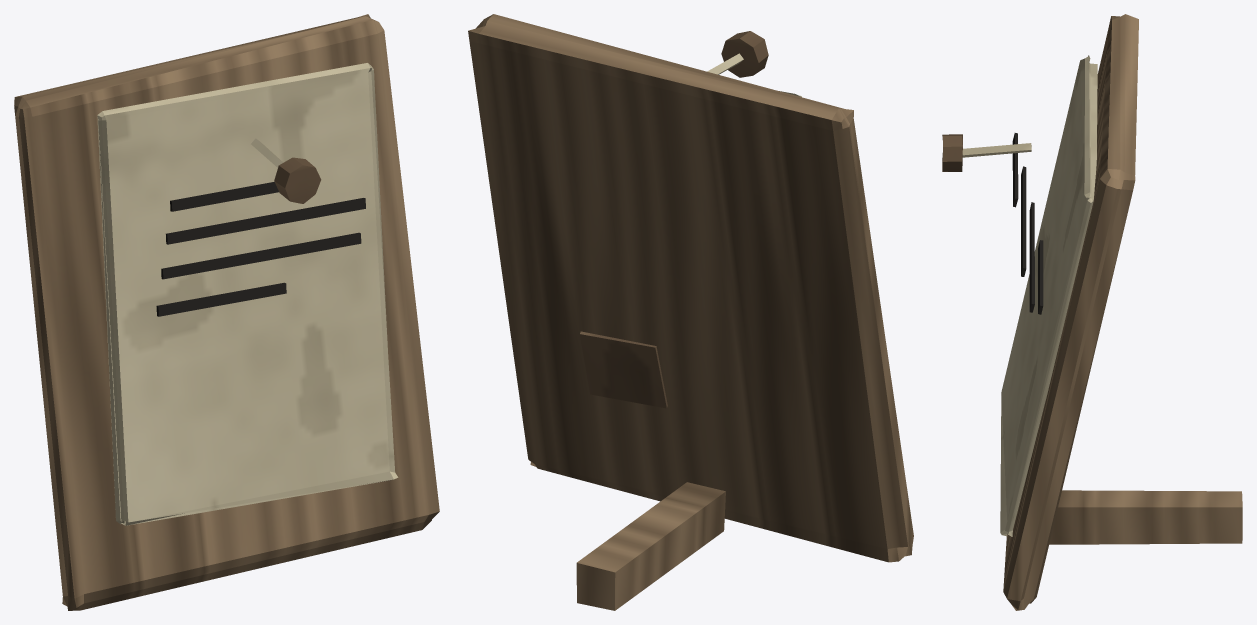
File: tailor_journal_page.glb
3 renders of one model, left to right at view 1: azimuth 30°, elevation 25°; view 2: azimuth 150°, elevation 25°; view 3: azimuth 270°, elevation 25°, orthographic. The views are drawn at different scales.
Parts seen in each view (by area): view 1: TailorJournalPage; view 2: TailorJournalPage; view 3: TailorJournalPage.
Boxes of the visible parts, box(x1,y1,x2,y2) form: TailorJournalPage: box(14, 14, 439, 610); TailorJournalPage: box(468, 14, 913, 610); TailorJournalPage: box(942, 14, 1242, 610).
Size of the model in its own units: 0.3378 by 0.4184 by 0.2562.
Materials: 4 (3 with a texture image).
